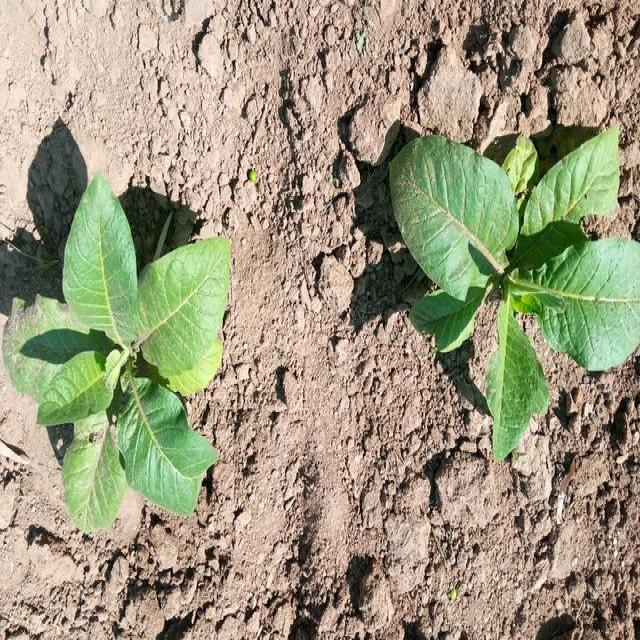crop: (380, 123, 640, 459), (8, 167, 232, 546)
